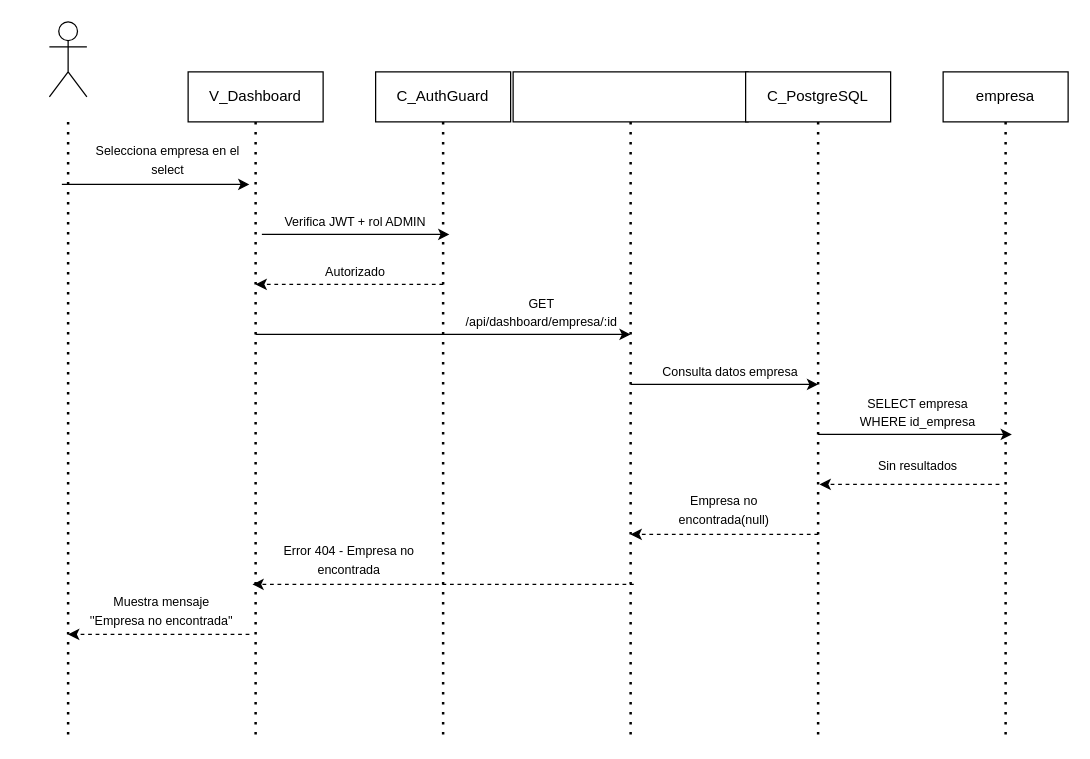
Some shapes in this 1090 by 759 pixel diagram are drawn without their labels. The shapes that lost their labels are listed below. From the top down, each one's centre as x and y in pixels, then its label:
At point 67,59: "Administrador".
At point 630,96: "C_DashboardController".
